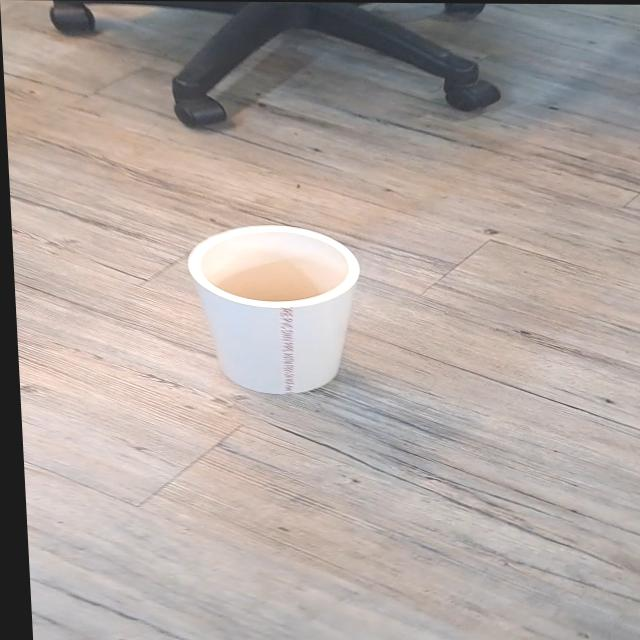CORAL: (178, 215, 373, 404)
